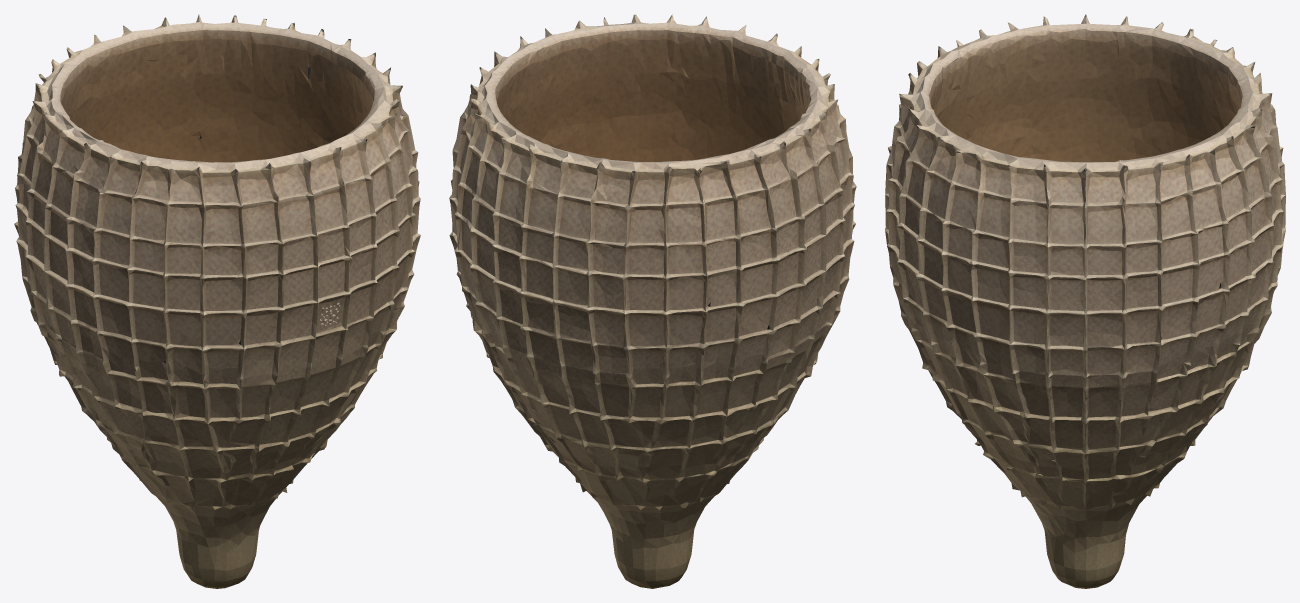
3 renders of one model, left to right at view 1: azimuth 30°, elevation 25°; view 2: azimuth 150°, elevation 25°; view 3: azimuth 270°, elevation 25°, orthographic.
Parts seen in each view (by area): view 1: geometry_0; view 2: geometry_0; view 3: geometry_0.
Part boxes in pixels (box(x1,y1,x2,y2)): geometry_0: box(14, 14, 420, 588); geometry_0: box(449, 14, 856, 588); geometry_0: box(885, 14, 1285, 588).
Bounding box in the file's own units: 0.741 × 1 × 0.7404.
1 material, 1 textured.
